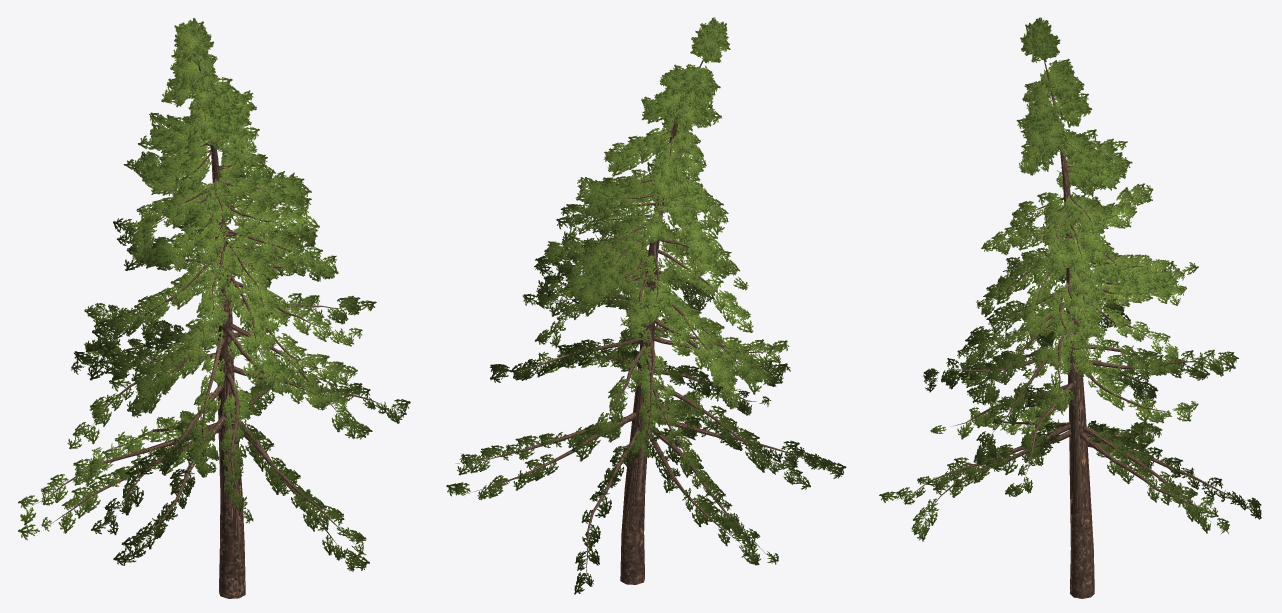
Rendered from tree_pine_b_lod0.glb.
3 renders of one model, left to right at view 1: azimuth 30°, elevation 25°; view 2: azimuth 150°, elevation 25°; view 3: azimuth 270°, elevation 25°, orthographic. The views are drawn at different scales.
Visible parts, largest first — view 1: pine_b; view 2: pine_b; view 3: pine_b.
Boxes of the visible parts, x1=… form: pine_b: x1=18, y1=18, x2=410, y2=598; pine_b: x1=446, y1=17, x2=846, y2=594; pine_b: x1=879, y1=17, x2=1261, y2=598.
Bounding box in the file's own units: 6.89 × 12 × 7.77.
Materials: 2 (2 with a texture image).
